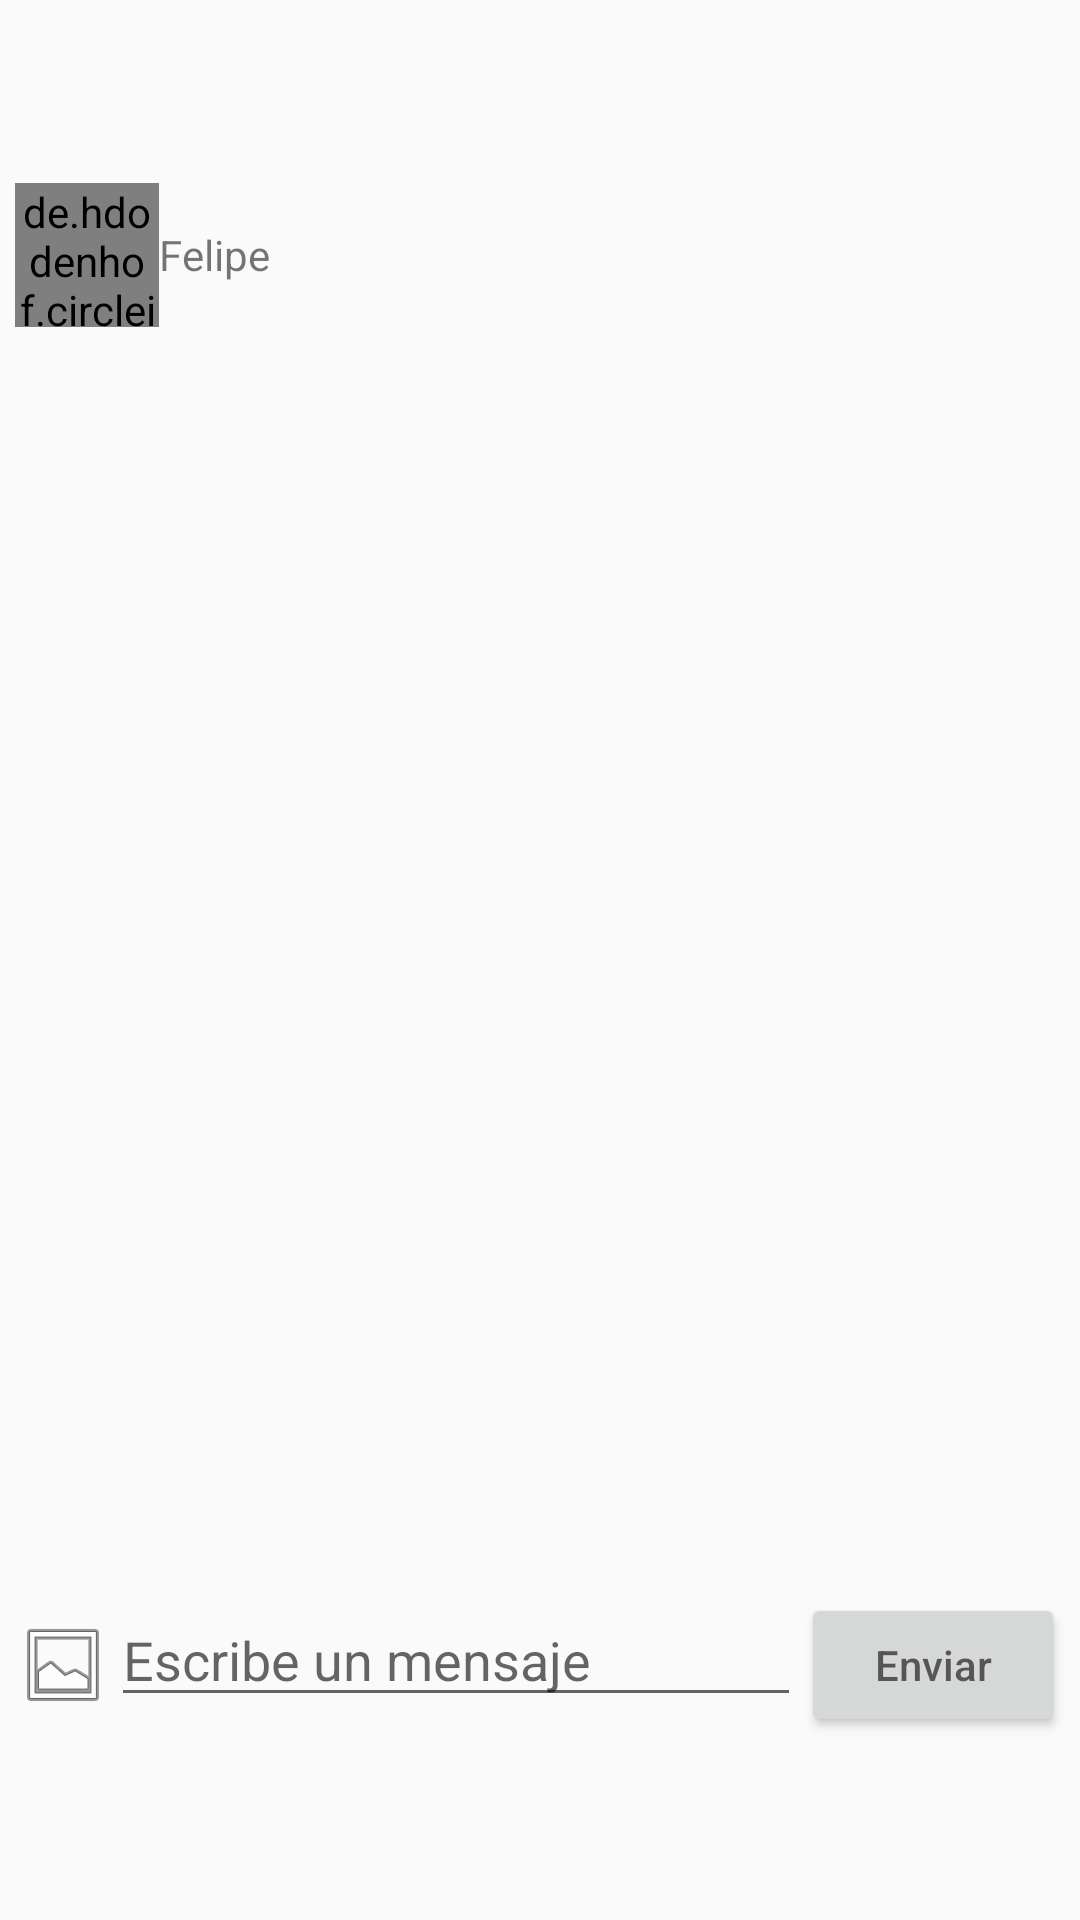

Screen size 1080w x 1920h. Icon name, then its box in pixels as (x1, y1, x2, y2):
gallery: (27, 1629, 99, 1701)
